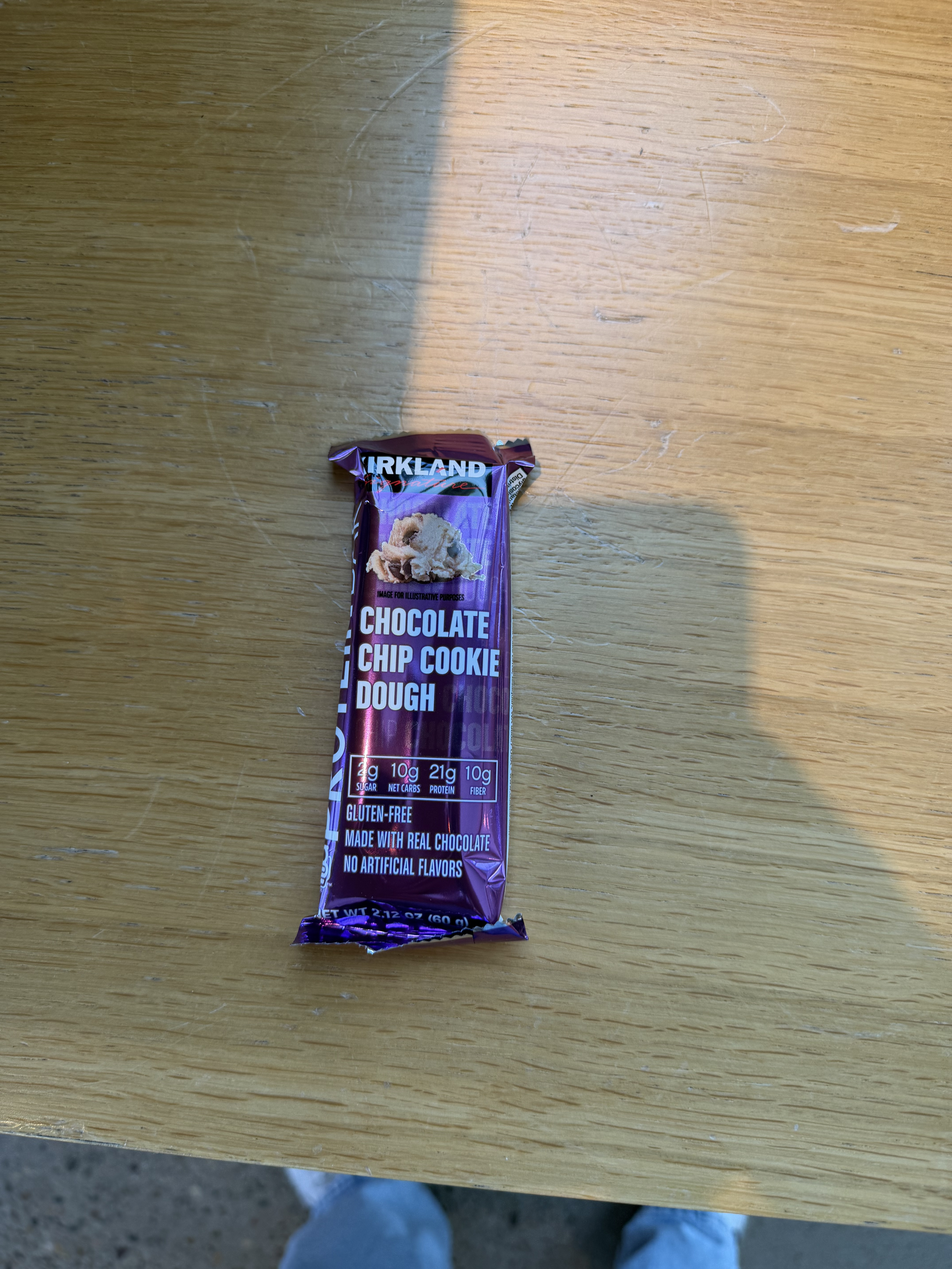chocolate_chip_cookie_dough: (290, 403, 569, 962)
